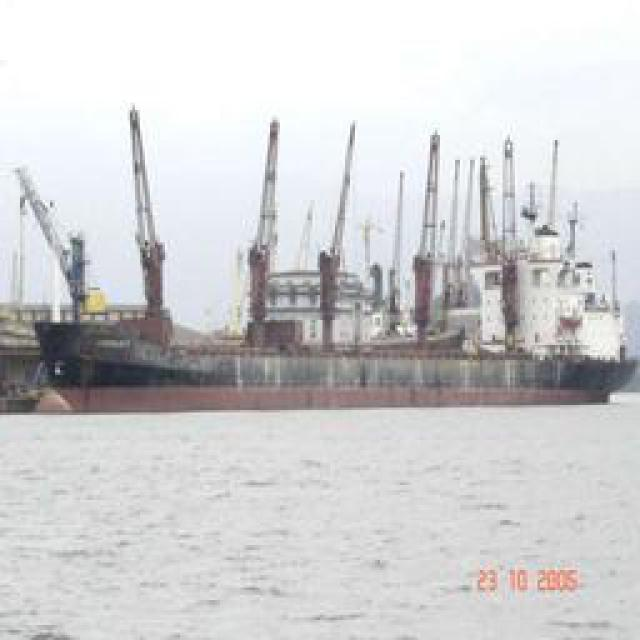Ship: (39, 225, 629, 428)
